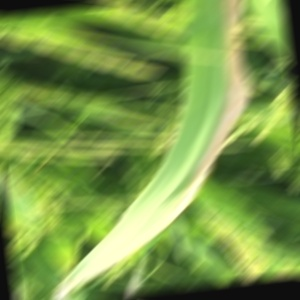Leaf_Blast: (185, 0, 250, 149)
